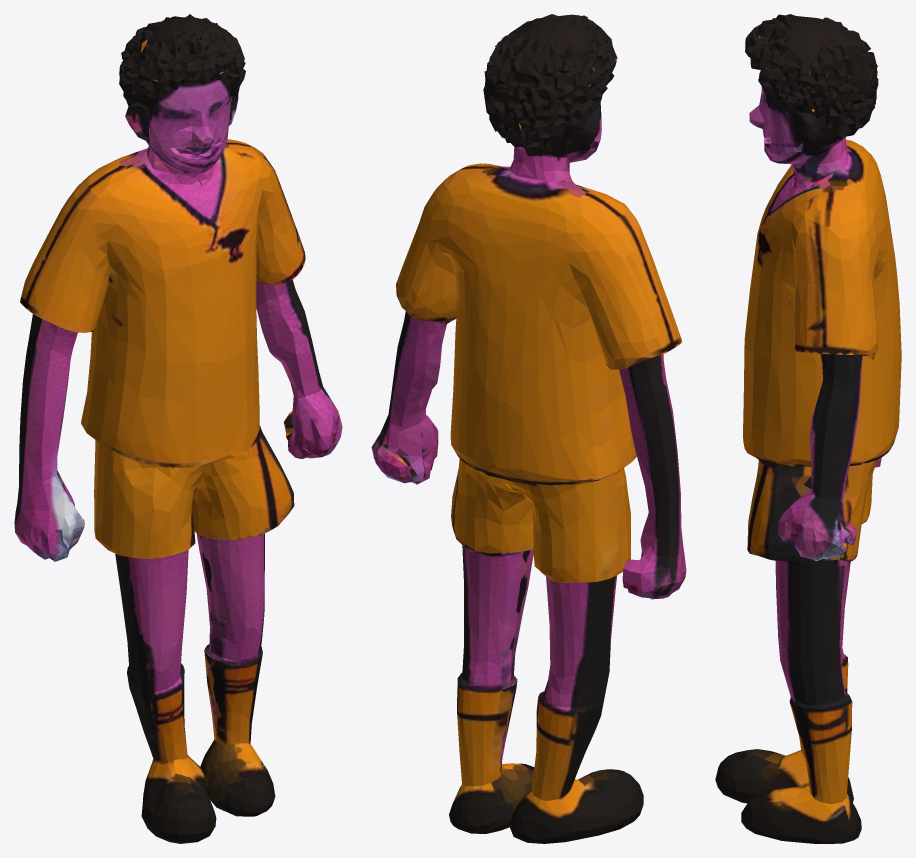
File: person3.glb
3 views of the same model, side by side, from view 1: azimuth 30°, elevation 25°; view 2: azimuth 150°, elevation 25°; view 3: azimuth 270°, elevation 25° (orthographic). The views are drawn at different scales.
Parts seen in each view (by area): view 1: geometry_0; view 2: geometry_0; view 3: geometry_0.
Boxes of the visible parts, x1,y1,x2,y2 form: geometry_0: [14, 14, 342, 843]; geometry_0: [371, 14, 686, 843]; geometry_0: [715, 14, 901, 843].
Bounding box in the file's own units: 0.4104 × 1 × 0.2143.
Materials: 1 (1 with a texture image).
